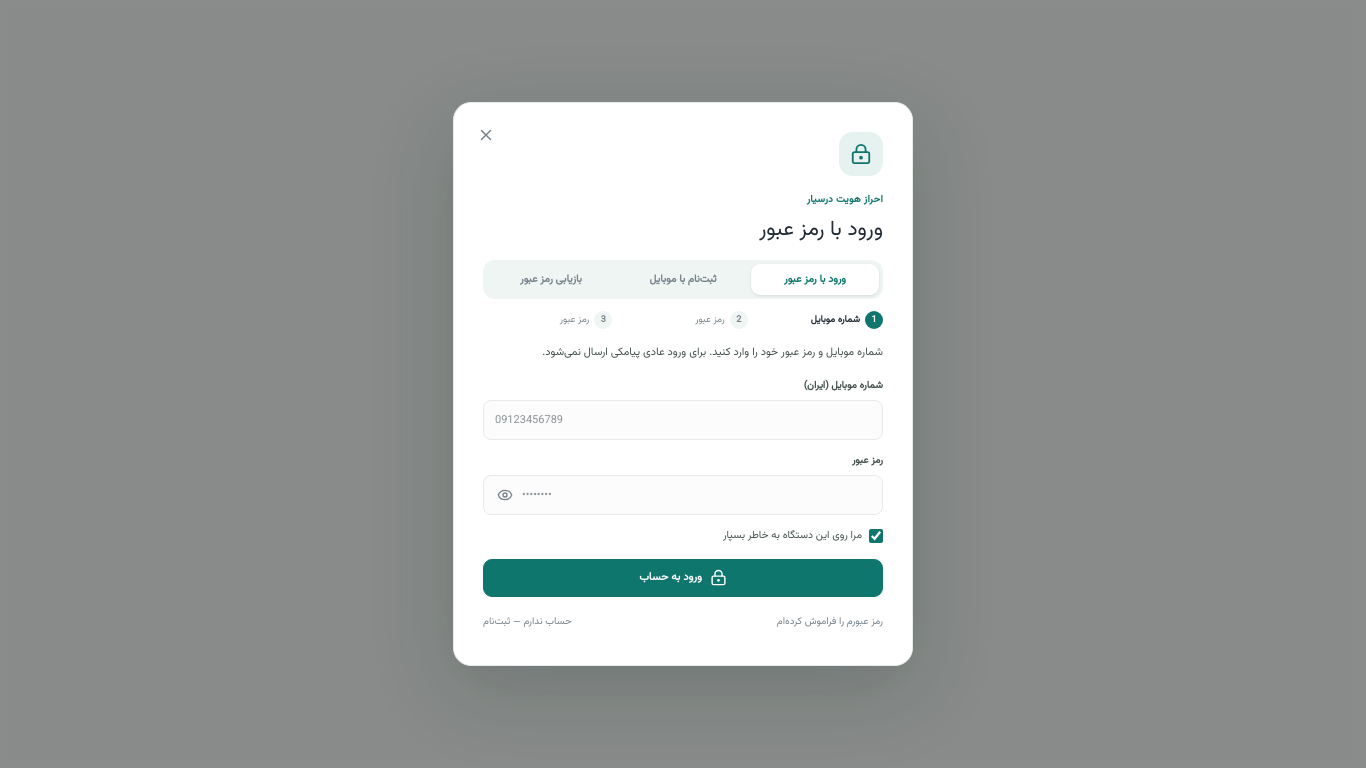
AuthFlowModal — password login and recovery › switches modes without losing the typed phone number
This screenshot has width=1366, height=768.
Type "09125556677" into the field with placeholder "09123456789" at (683, 420), box [483,400,883,440]
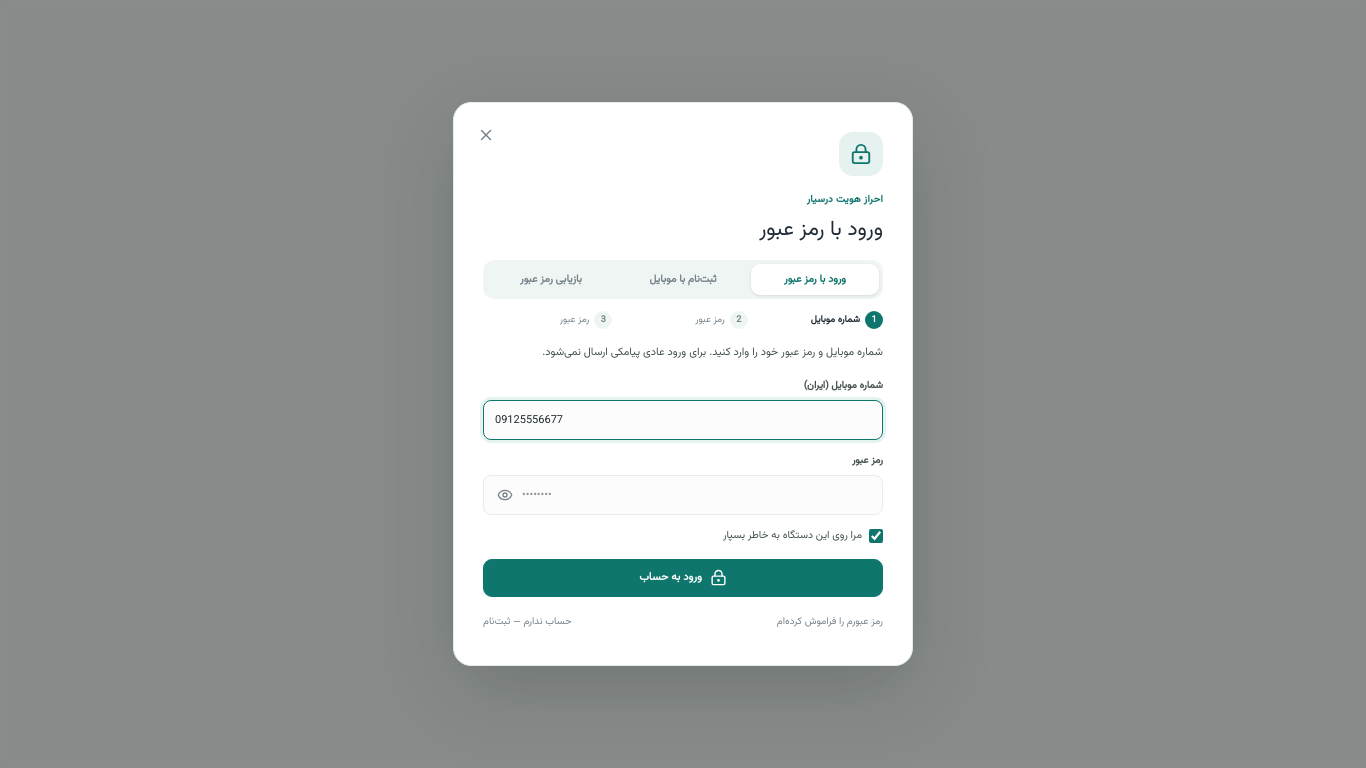
Click the tab "بازیابی رمز عبور" at (551, 279), box [487,264,615,295]
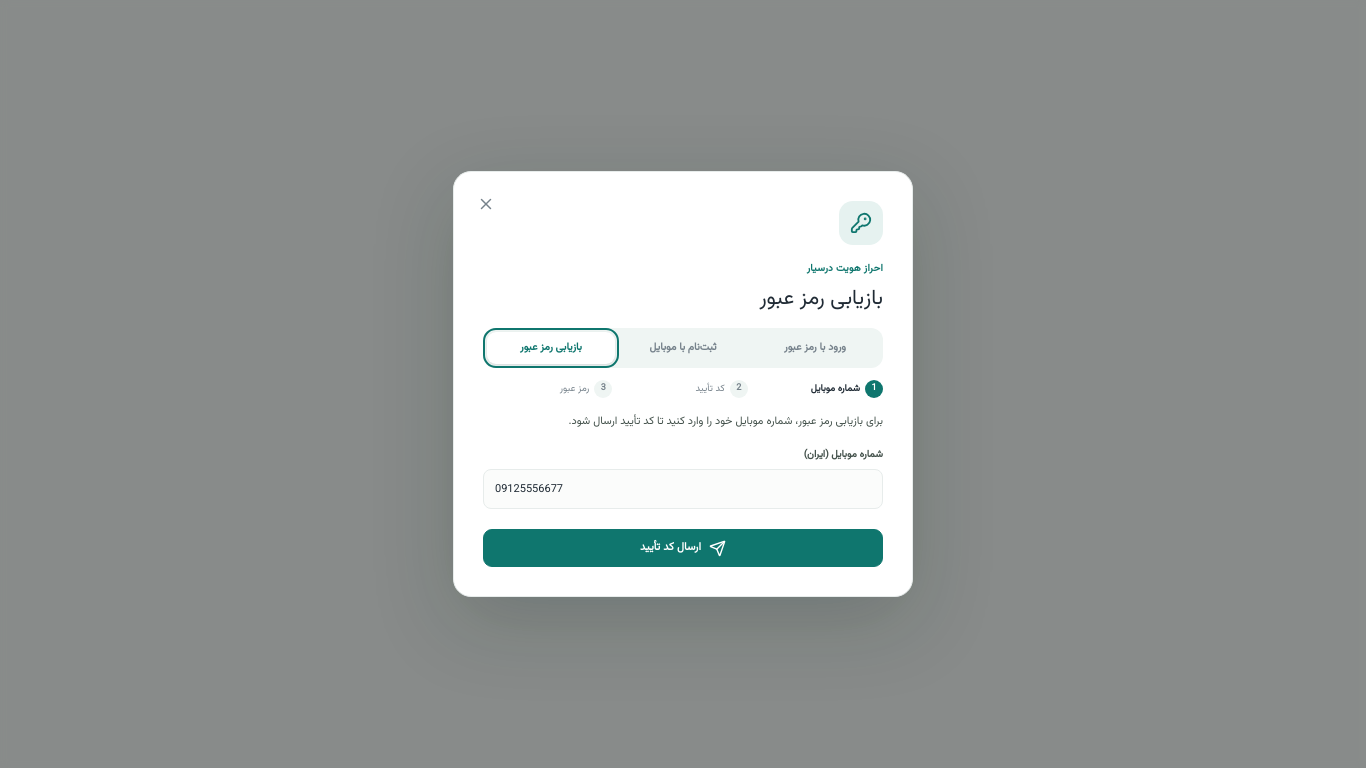
Expected: the field with placeholder "09123456789" holds "09125556677", [483,469,883,509]
Expected: the heading "بازیابی رمز عبور" is shown, [759,282,883,315]
